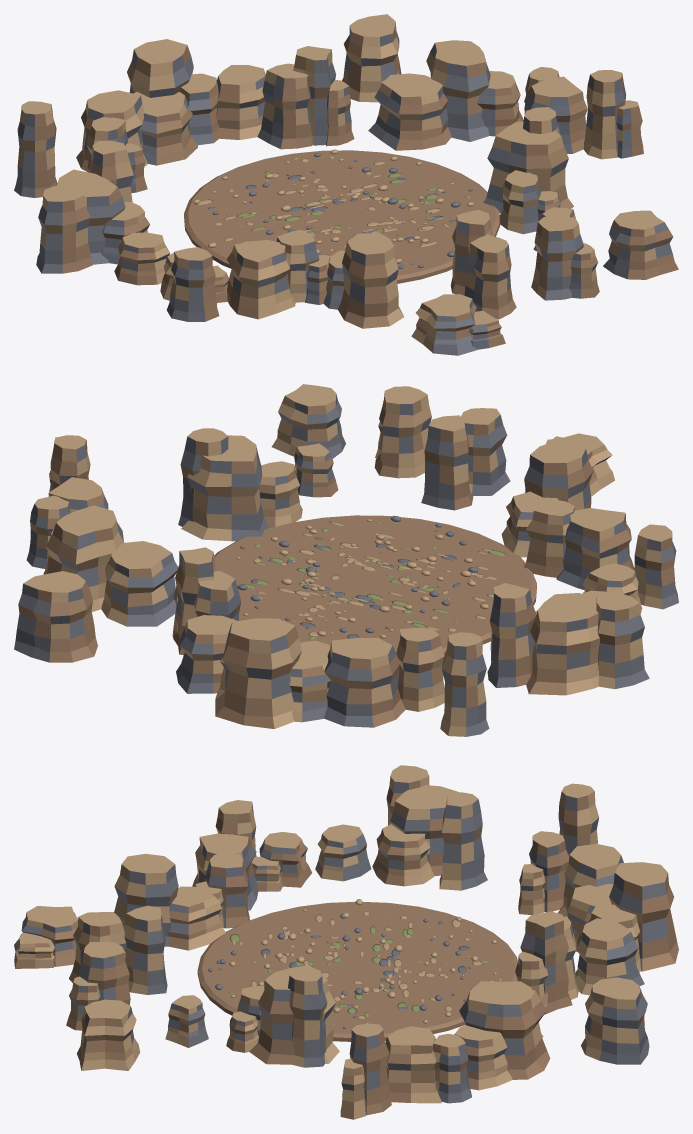
Rendered from sunscar_arena.glb.
3 views of the same model, one above another, from view 1: azimuth 30°, elevation 25°; view 2: azimuth 150°, elevation 25°; view 3: azimuth 270°, elevation 25° (orthographic). The views are drawn at different scales.
Visible parts, largest first — view 1: arena bedrock, stratified mesa 04, stratified mesa 23, stratified mesa 03, stratified mesa 20, stratified mesa 31, stratified mesa 16, stratified mesa 28, stratified mesa 05, stratified mesa 07, stratified mesa 13, stratified mesa 27 (+28 smaller); view 2: arena bedrock, stratified mesa 09, stratified mesa 31, stratified mesa 15, stratified mesa 05, stratified mesa 11, stratified mesa 04, stratified mesa 03, stratified mesa 27, stratified mesa 13, stratified mesa 14, stratified mesa 16 (+21 smaller); view 3: arena bedrock, stratified mesa 03, stratified mesa 05, stratified mesa 09, stratified mesa 14, stratified mesa 31, stratified mesa 28, stratified mesa 08, stratified mesa 01, stratified mesa 23, stratified mesa 26, stratified mesa 32 (+31 smaller).
Part boxes in pixels (x1,y1,x2,y2): arena bedrock: [184, 150, 500, 283]; stratified mesa 04: [368, 73, 451, 150]; stratified mesa 23: [338, 232, 403, 328]; stratified mesa 03: [426, 40, 490, 141]; stratified mesa 20: [226, 240, 295, 319]; stratified mesa 31: [483, 121, 573, 213]; stratified mesa 16: [36, 186, 92, 273]; stratified mesa 28: [603, 210, 678, 279]; stratified mesa 05: [342, 14, 401, 102]; stratified mesa 07: [257, 63, 312, 149]; stratified mesa 13: [14, 101, 57, 197]; stratified mesa 27: [531, 213, 583, 300]; arena bedrock: [214, 515, 536, 655]; stratified mesa 09: [215, 618, 301, 728]; stratified mesa 31: [181, 435, 268, 541]; stratified mesa 15: [526, 593, 599, 695]; stratified mesa 05: [14, 571, 97, 662]; stratified mesa 11: [324, 638, 405, 727]; stratified mesa 04: [101, 541, 178, 626]; stratified mesa 03: [46, 505, 123, 611]; stratified mesa 27: [374, 386, 431, 478]; stratified mesa 13: [440, 632, 489, 736]; stratified mesa 14: [487, 583, 536, 687]; stratified mesa 16: [596, 592, 649, 688]; arena bedrock: [197, 901, 517, 1041]; stratified mesa 03: [459, 983, 550, 1079]; stratified mesa 05: [581, 977, 649, 1064]; stratified mesa 09: [609, 862, 678, 971]; stratified mesa 14: [439, 792, 487, 890]; stratified mesa 31: [249, 965, 339, 1064]; stratified mesa 28: [77, 999, 140, 1070]; stratified mesa 08: [575, 918, 644, 995]; stratified mesa 01: [385, 1026, 441, 1103]; stratified mesa 23: [114, 853, 178, 946]; stratified mesa 26: [123, 905, 167, 994]; stratified mesa 32: [288, 967, 327, 1067].
Size of the model in its own units: 80.36 by 11.3 by 78.36.
